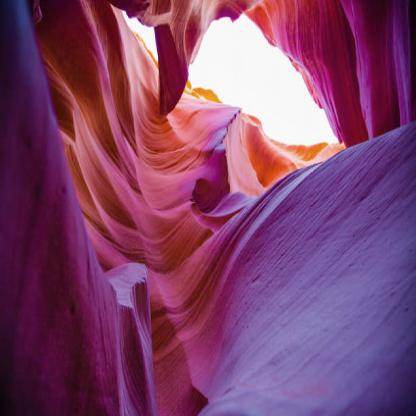Sedimentary_Sandstone: (279, 127, 415, 415), (237, 0, 415, 119), (118, 5, 209, 108), (100, 254, 152, 415)
